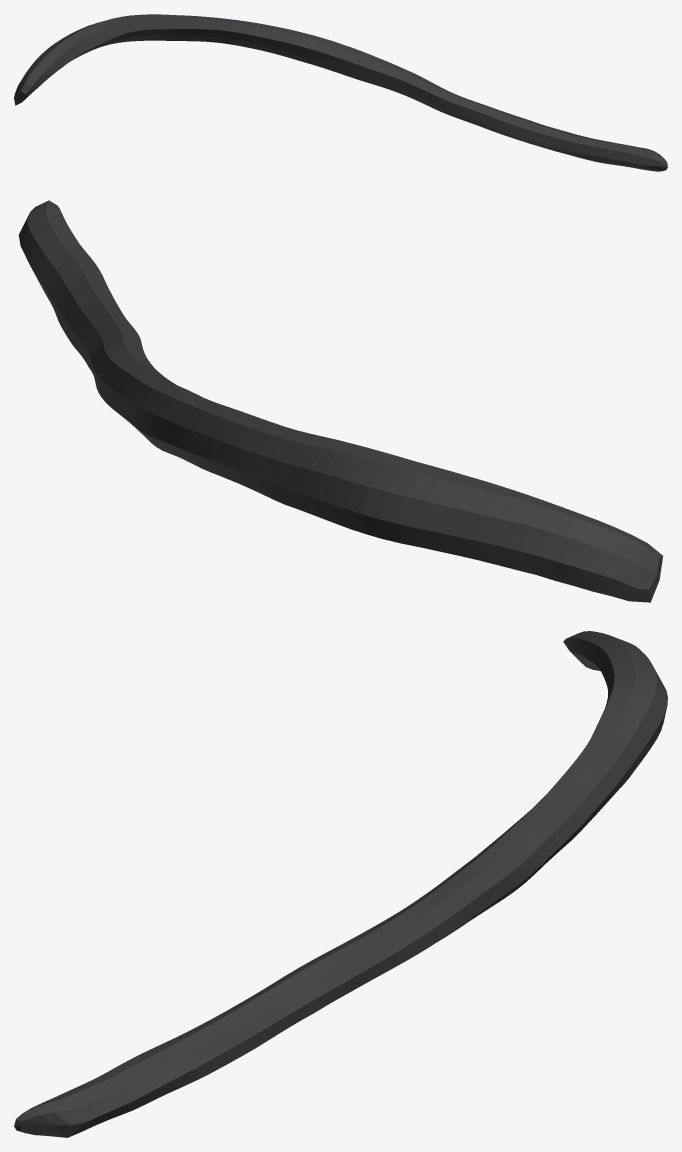
The model's file is parietoscutularis.glb.
3 renders of one model, top to bottom at view 1: azimuth 30°, elevation 25°; view 2: azimuth 150°, elevation 25°; view 3: azimuth 270°, elevation 25°, orthographic. The views are drawn at different scales.
Parts seen in each view (by area): view 1: parietoscutularis; view 2: parietoscutularis; view 3: parietoscutularis.
Part boxes in pixels (<box>): parietoscutularis: <box>14,14,667,171</box>; parietoscutularis: <box>18,200,663,602</box>; parietoscutularis: <box>14,631,667,1137</box>.
Size of the model in its own units: 0.6458 by 0.1403 by 0.4686.
Materials: 1 (1 with a texture image).
